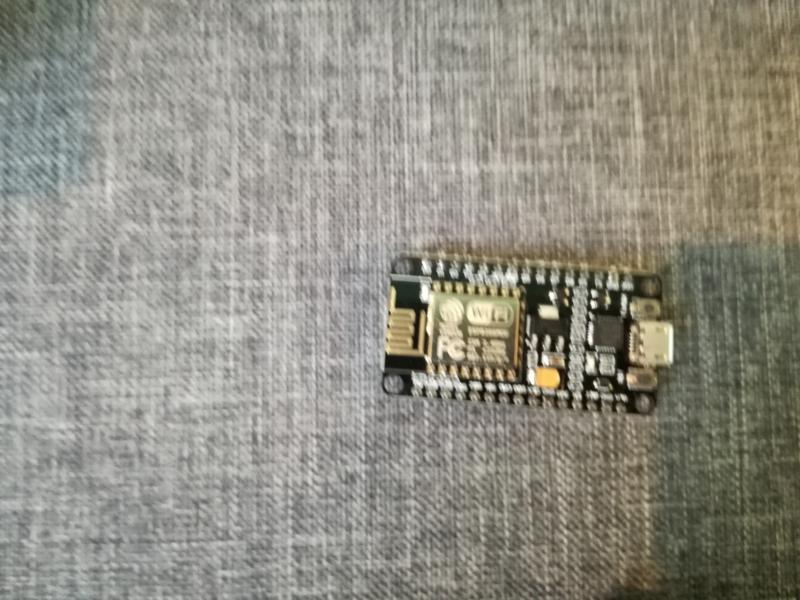ESP8266: (373, 247, 680, 426)
